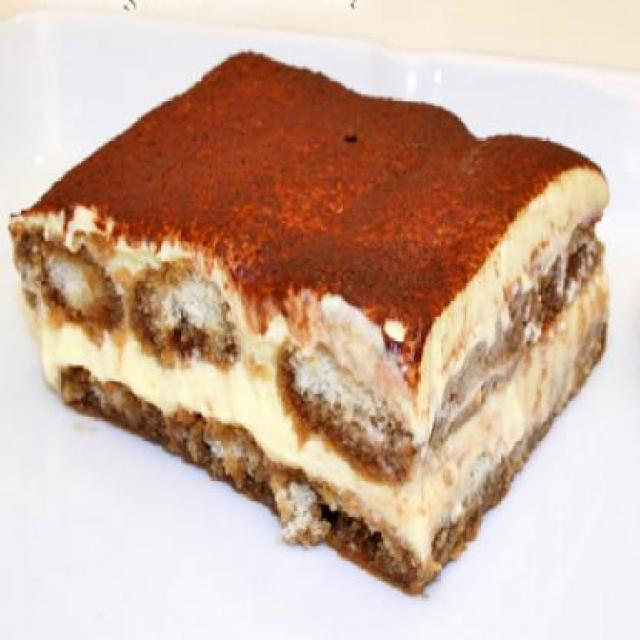Tiramisu: (29, 70, 616, 592)
